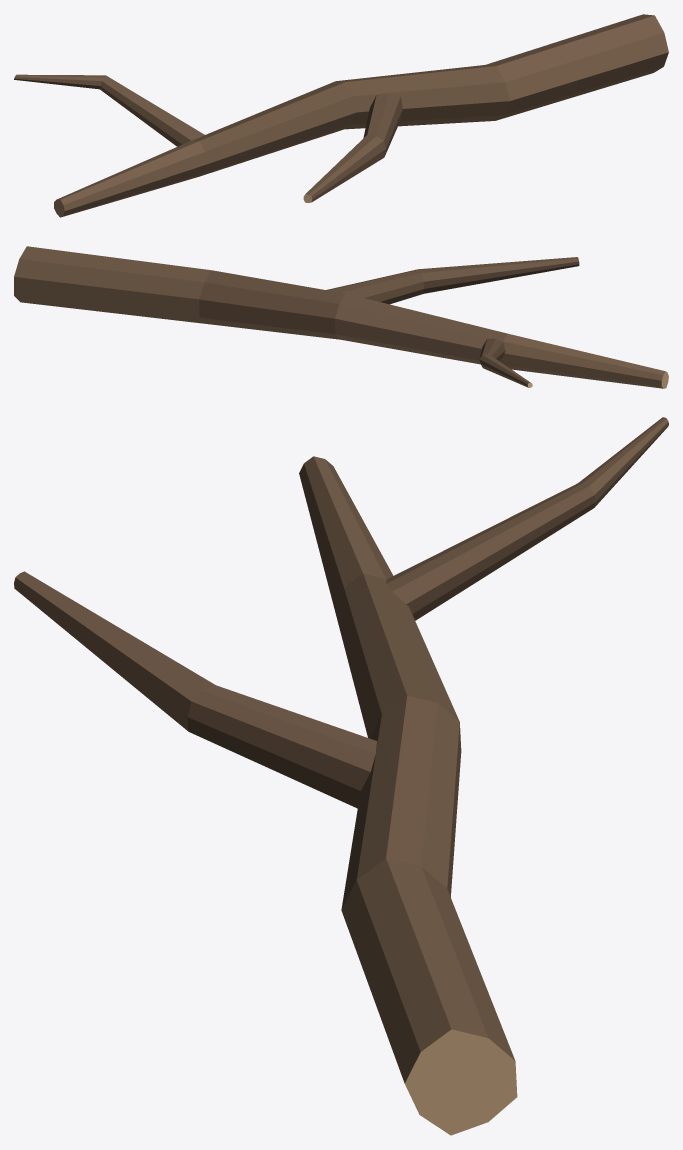
File: branched-stick.glb
3 renders of one model, top to bottom at view 1: azimuth 30°, elevation 25°; view 2: azimuth 150°, elevation 25°; view 3: azimuth 270°, elevation 25°, orthographic. The views are drawn at different scales.
Visible parts, largest first — view 1: branched-stick; view 2: branched-stick; view 3: branched-stick.
Part boxes in pixels (left/top/right/bottom): branched-stick: left=14, top=14, right=668, bottom=217; branched-stick: left=14, top=246, right=668, bottom=388; branched-stick: left=14, top=417, right=668, bottom=1135.
Bounding box in the file's own units: 1.05 × 0.1543 × 0.4972.
